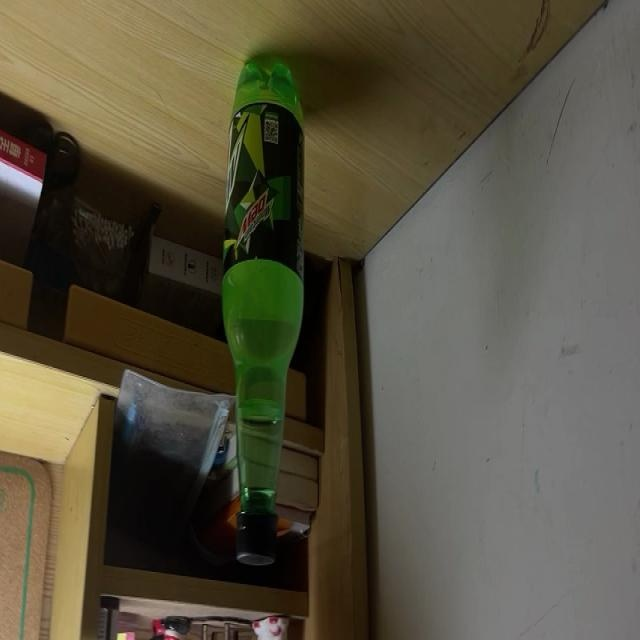Mountain-Dew: (219, 54, 304, 564)
